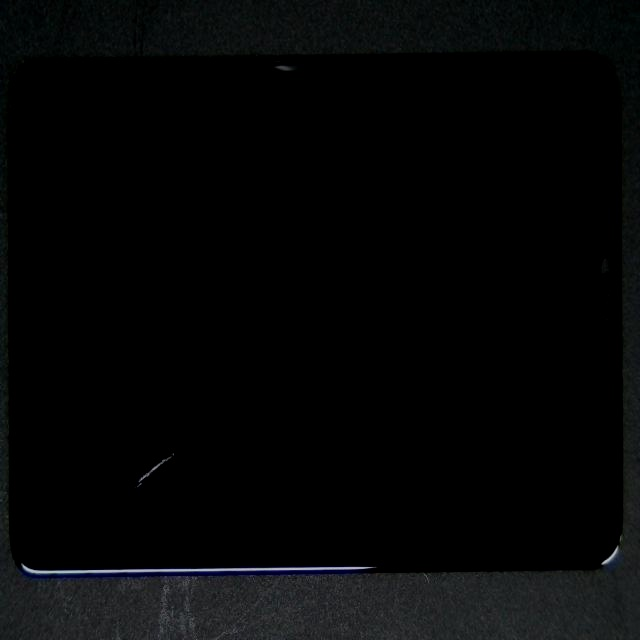scratch: (116, 200, 240, 640)
